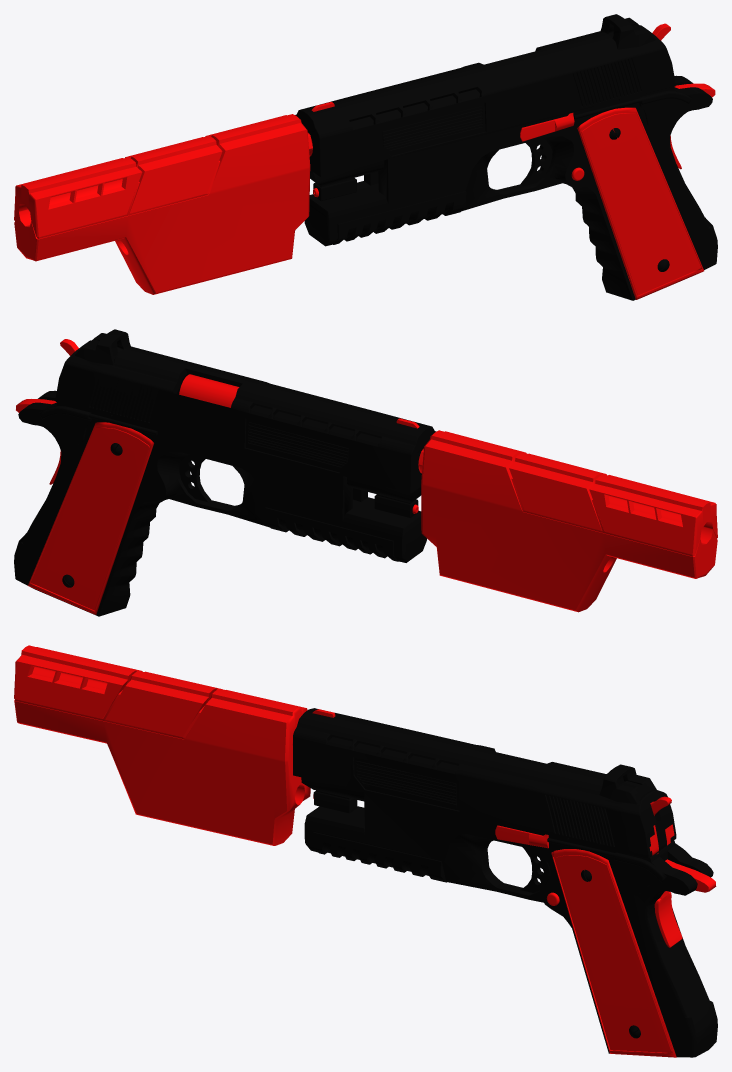
The picture shows the model from 3 angles, top to bottom: view 1: azimuth 30°, elevation 25°; view 2: azimuth 150°, elevation 25°; view 3: azimuth 330°, elevation 25°; orthographic projection.
Visible parts, largest first — view 1: Base, silencer, Top; view 2: Base, silencer, Top; view 3: Base, silencer, Top, reargrip.
Boxes of the visible parts, left/top/right/bottom form: Base: left=304, top=75, right=717, bottom=300; silencer: left=14, top=114, right=312, bottom=294; Top: left=295, top=14, right=675, bottom=201; Base: left=14, top=374, right=426, bottom=616; silencer: left=418, top=430, right=717, bottom=612; Top: left=55, top=329, right=436, bottom=517; Base: left=304, top=791, right=717, bottom=1057; silencer: left=14, top=645, right=310, bottom=845; Top: left=293, top=708, right=676, bottom=858; reargrip: left=654, top=891, right=682, bottom=947.
Bounding box in the file's own units: 324 × 123 × 26.52.
